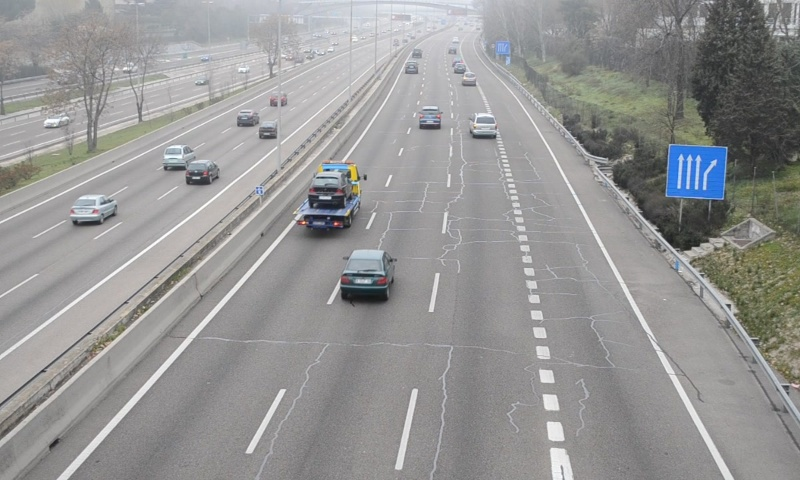car: (340, 250, 394, 293), (469, 112, 498, 139), (418, 106, 442, 128), (460, 70, 477, 87), (404, 60, 418, 74)
small-truck: (293, 160, 362, 228)
